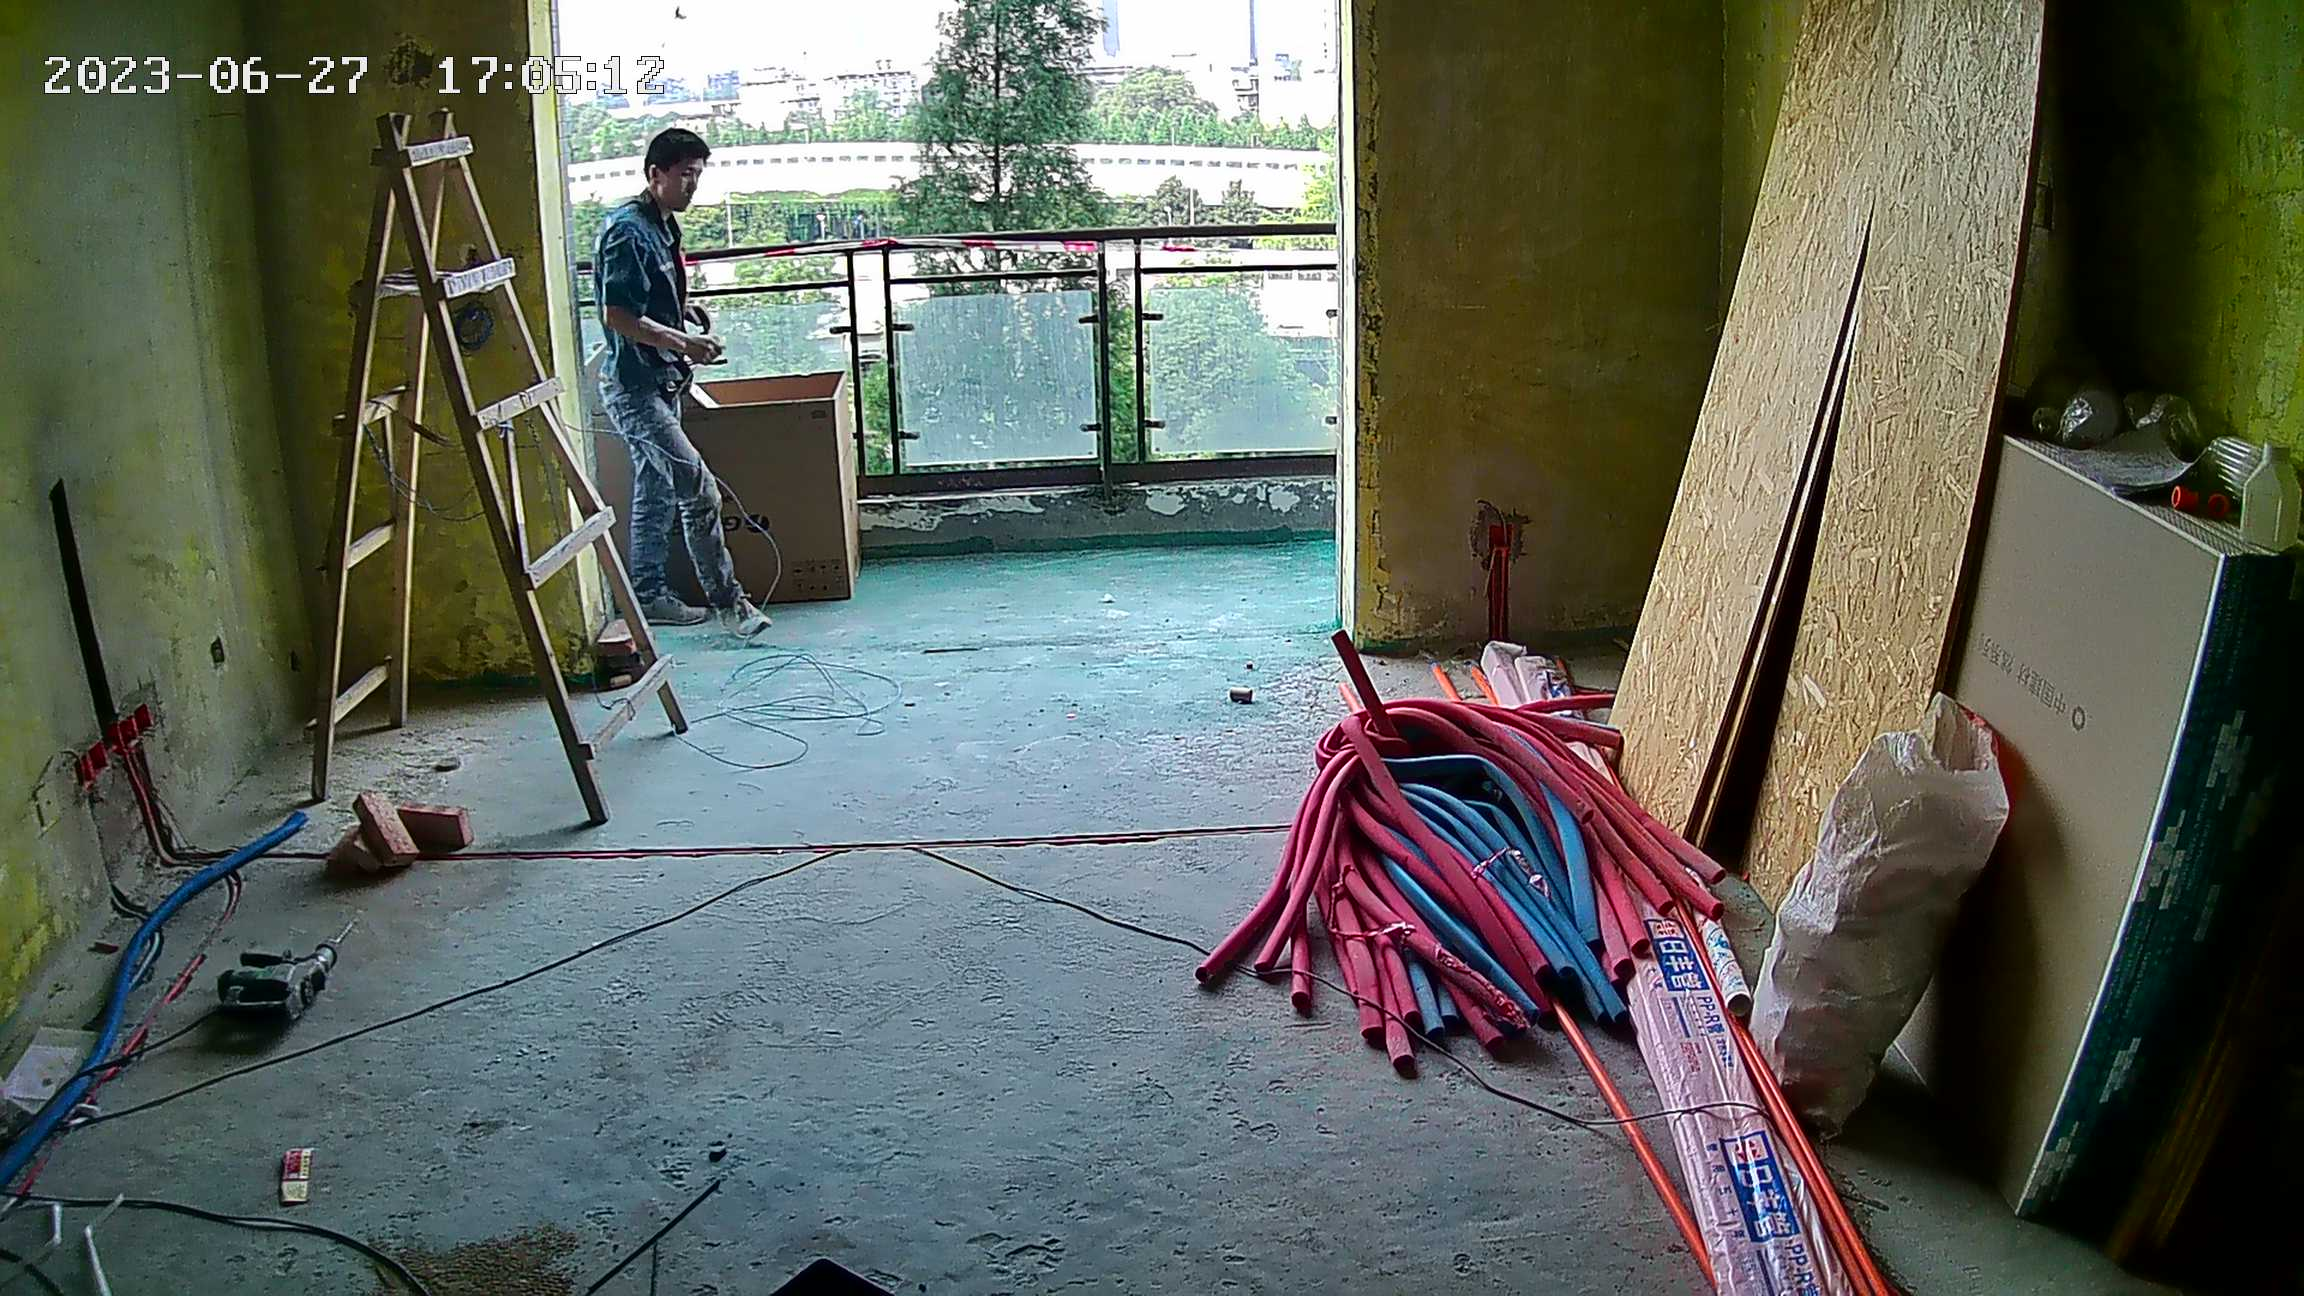people: (589, 126, 781, 634)
window: (552, 11, 1341, 501)
